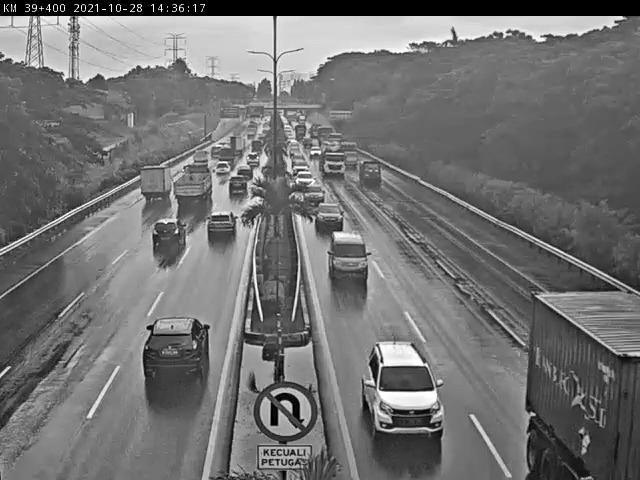big truck: (171, 168, 215, 209), (319, 150, 348, 178)
car: (360, 339, 449, 439), (143, 316, 213, 386), (326, 228, 371, 282), (149, 217, 188, 251), (202, 207, 237, 241), (314, 199, 344, 226), (302, 181, 325, 205), (226, 173, 248, 195), (294, 170, 315, 189), (233, 164, 253, 181), (213, 160, 232, 177)
small truck: (137, 164, 175, 207), (355, 159, 382, 184)
